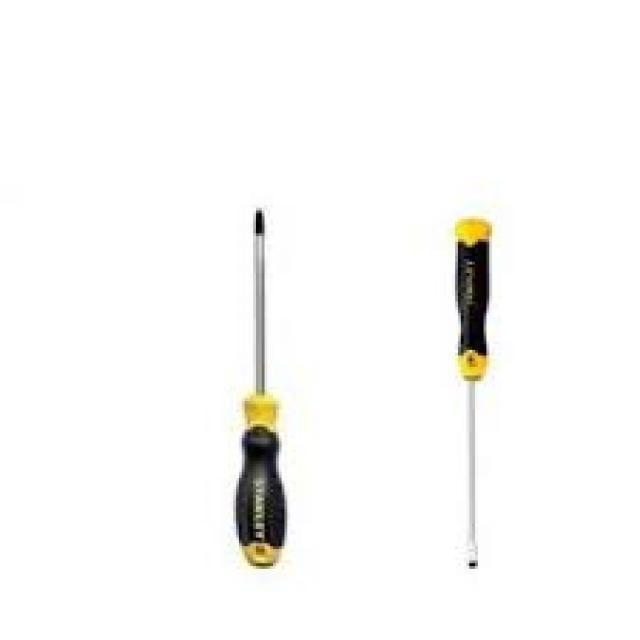screwdriver: (225, 202, 296, 577), (446, 218, 496, 570)
